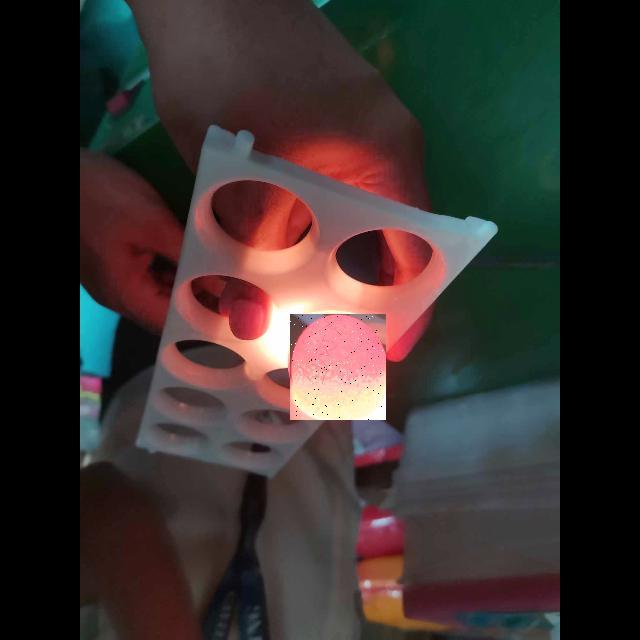Infertile: (290, 314, 386, 420)
